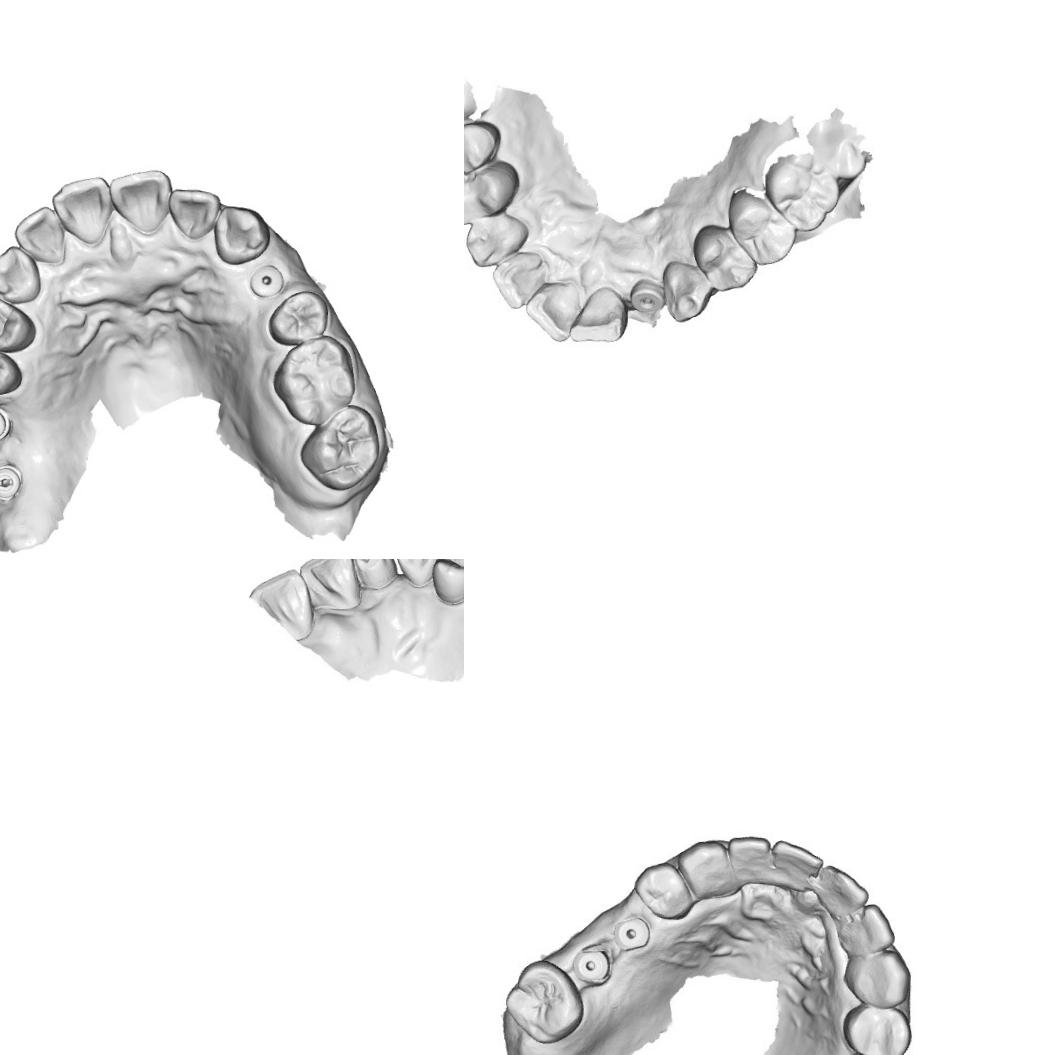canine: (844, 944, 910, 1010), (630, 858, 696, 922), (464, 208, 532, 270), (210, 202, 272, 268), (666, 262, 716, 322), (0, 243, 44, 304), (392, 559, 441, 589)
implant: (571, 940, 616, 988), (612, 912, 654, 954), (628, 278, 667, 319), (246, 260, 284, 302)
implant_minus: (0, 465, 23, 502), (0, 405, 10, 444)
incisor: (244, 562, 316, 640), (47, 172, 114, 245), (107, 166, 171, 236), (672, 834, 731, 898), (10, 201, 70, 263), (293, 559, 361, 612), (164, 185, 224, 242), (812, 862, 873, 918), (841, 898, 896, 956), (765, 838, 824, 892), (569, 287, 626, 340), (496, 253, 548, 308), (530, 283, 582, 337), (724, 832, 773, 886), (351, 559, 397, 592)
molar: (268, 330, 362, 428), (298, 400, 386, 494), (500, 953, 586, 1048), (770, 152, 834, 228)
premolar: (727, 192, 793, 263), (464, 158, 527, 227), (264, 286, 329, 348), (840, 1001, 912, 1055), (696, 226, 758, 288), (464, 115, 505, 184), (0, 294, 38, 354), (427, 559, 464, 608), (0, 344, 23, 398)
